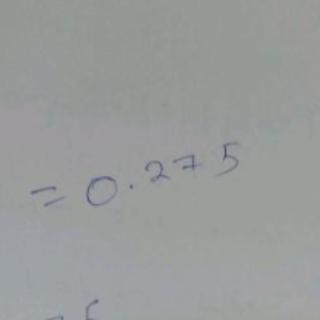.: (125, 176, 137, 191)
0: (85, 172, 118, 208)
2: (144, 160, 168, 184)
5: (216, 135, 244, 176)
7: (172, 152, 201, 180)
